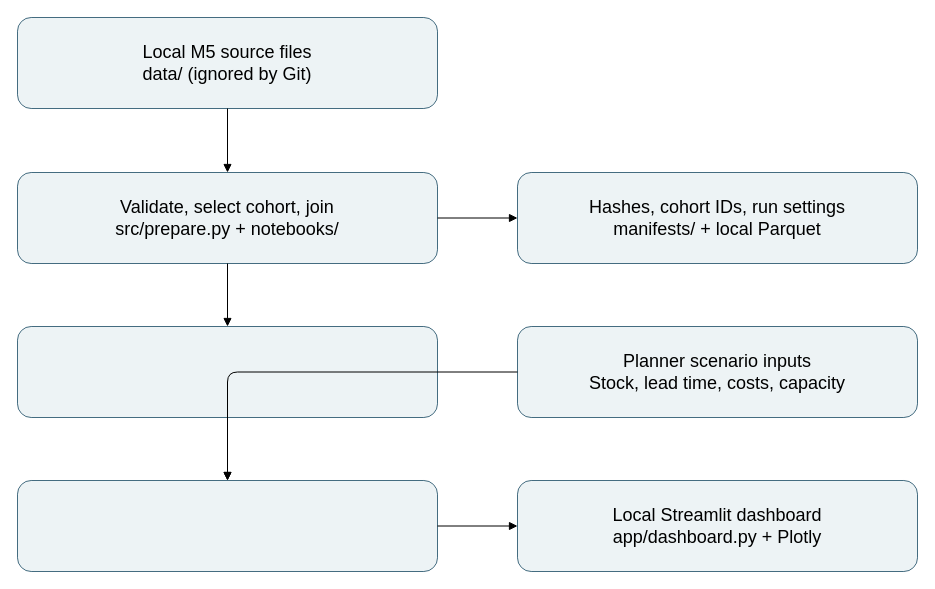
This 935x589 diagram has some shape labels left out. Here are the shapes that lost their labels. From the top down, the centre of each, then its label:
At point 227,372: "Train, validate, explain src/forecast.py + scikit-learn".
At point 227,526: "Compare replenishment policies src/simulate.py".
